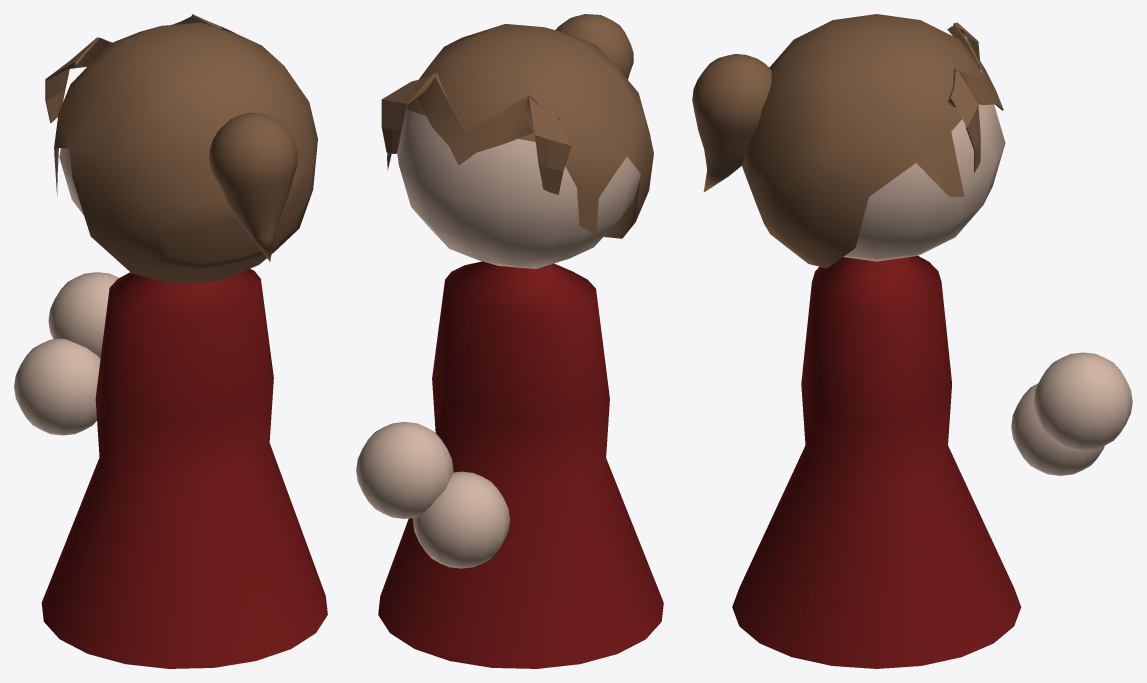
Rendered from GRILL_Proto_Prop.fbx.
The picture shows the model from 3 angles, left to right: view 1: azimuth 30°, elevation 25°; view 2: azimuth 150°, elevation 25°; view 3: azimuth 270°, elevation 25°; orthographic projection.
Parts seen in each view (by area): view 1: polySurface2, polySurface9, polySurface1, polySurface5; view 2: polySurface2, polySurface9, polySurface5, polySurface1; view 3: polySurface2, polySurface9, polySurface5, polySurface1.
Part boxes in pixels (x1,y1,x2,y2): polySurface2: (41, 269, 327, 668); polySurface9: (45, 14, 317, 284); polySurface1: (14, 338, 100, 435); polySurface5: (48, 272, 118, 358); polySurface2: (378, 261, 663, 668); polySurface9: (381, 14, 653, 268); polySurface5: (356, 422, 453, 518); polySurface1: (412, 471, 509, 568); polySurface2: (732, 256, 1021, 668); polySurface9: (692, 14, 1005, 268); polySurface5: (1034, 352, 1132, 450); polySurface1: (1011, 383, 1104, 475).
Size of the model in its own units: 1.36 by 3.05 by 2.05.
